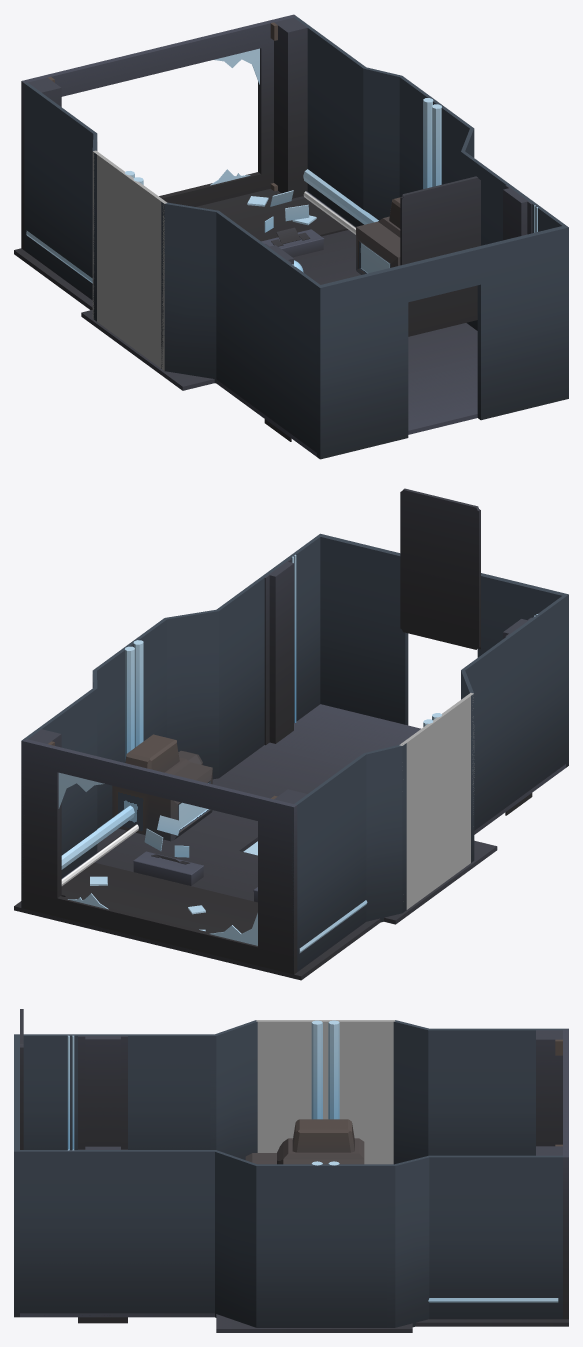
The model's file is Scifi.fbx.
3 renders of one model, top to bottom at view 1: azimuth 30°, elevation 25°; view 2: azimuth 150°, elevation 25°; view 3: azimuth 270°, elevation 25°, orthographic. The views are drawn at different scales.
Visible parts, largest first — view 1: pCube31, pCube32, pCube5, pCube8, pCube4, pCube14, pCube6, pCube20, pCube53, pCube3, pCube22, pCube19 (+11 smaller); view 2: pCube14, pCube5, pCube32, pCube16, pCube4, pCube53, pCube8, pCube3, pCube17, pCube23, pCube7, pCube1 (+12 smaller); view 3: pCube16, pCube18, pCube20, pCube5, pCube8, pCube4, pCube19, pCube17, pCube6, pCube7, pCube34, pCube28 (+11 smaller).
Boxes of the visible parts, left/top/right/bottom form: pCube31: left=317, top=255, right=444, bottom=459; pCube32: left=441, top=225, right=568, bottom=420; pCube5: left=216, top=211, right=319, bottom=452; pCube8: left=92, top=150, right=167, bottom=370; pCube4: left=21, top=81, right=96, bottom=300; pCube14: left=21, top=14, right=296, bottom=249; pCube6: left=161, top=202, right=218, bottom=383; pCube20: left=291, top=15, right=366, bottom=226; pCube53: left=400, top=176, right=480, bottom=336; pCube3: left=216, top=323, right=477, bottom=456; pCube22: left=274, top=17, right=307, bottom=198; pCube19: left=359, top=67, right=401, bottom=225; pCube14: left=21, top=739, right=297, bottom=974; pCube5: left=461, top=596, right=565, bottom=830; pCube32: left=317, top=533, right=408, bottom=725; pCube16: left=216, top=536, right=320, bottom=777; pCube4: left=290, top=753, right=366, bottom=973; pCube53: left=400, top=488, right=480, bottom=649; pCube8: left=399, top=693, right=474, bottom=909; pCube3: left=219, top=704, right=565, bottom=834; pCube17: left=165, top=610, right=222, bottom=779; pCube23: left=61, top=862, right=257, bottom=933; pCube7: left=364, top=743, right=406, bottom=922; pCube1: left=97, top=778, right=497, bottom=924; pCube16: left=20, top=1150, right=216, bottom=1313; pCube18: left=256, top=1164, right=395, bottom=1327; pCube20: left=428, top=1155, right=568, bottom=1319; pCube5: left=23, top=1034, right=216, bottom=1149; pCube8: left=256, top=1020, right=395, bottom=1164; pCube4: left=428, top=1028, right=568, bottom=1155; pCube19: left=387, top=1156, right=429, bottom=1327; pCube17: left=215, top=1150, right=262, bottom=1327; pCube6: left=210, top=1020, right=257, bottom=1159; pCube7: left=393, top=1020, right=435, bottom=1164; pCube34: left=85, top=1036, right=120, bottom=1146; pCube28: left=245, top=1119, right=364, bottom=1164.
Bounding box in the file's own units: 24.97 × 18.82 × 39.47.
